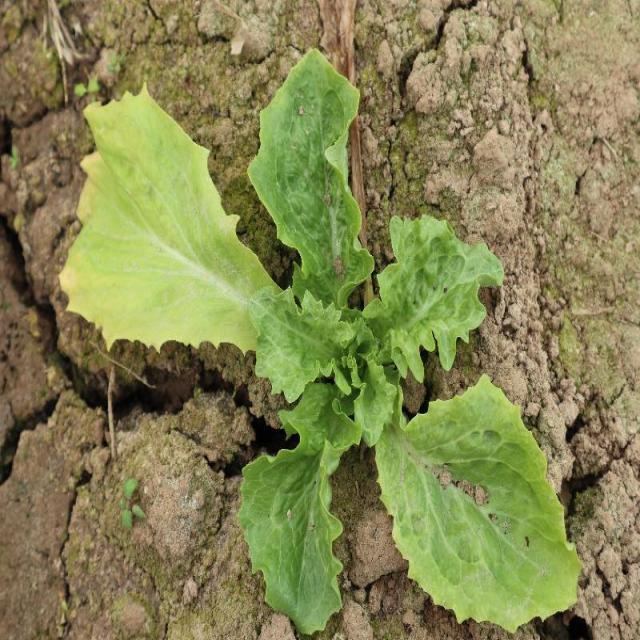crop: (55, 47, 582, 632)
